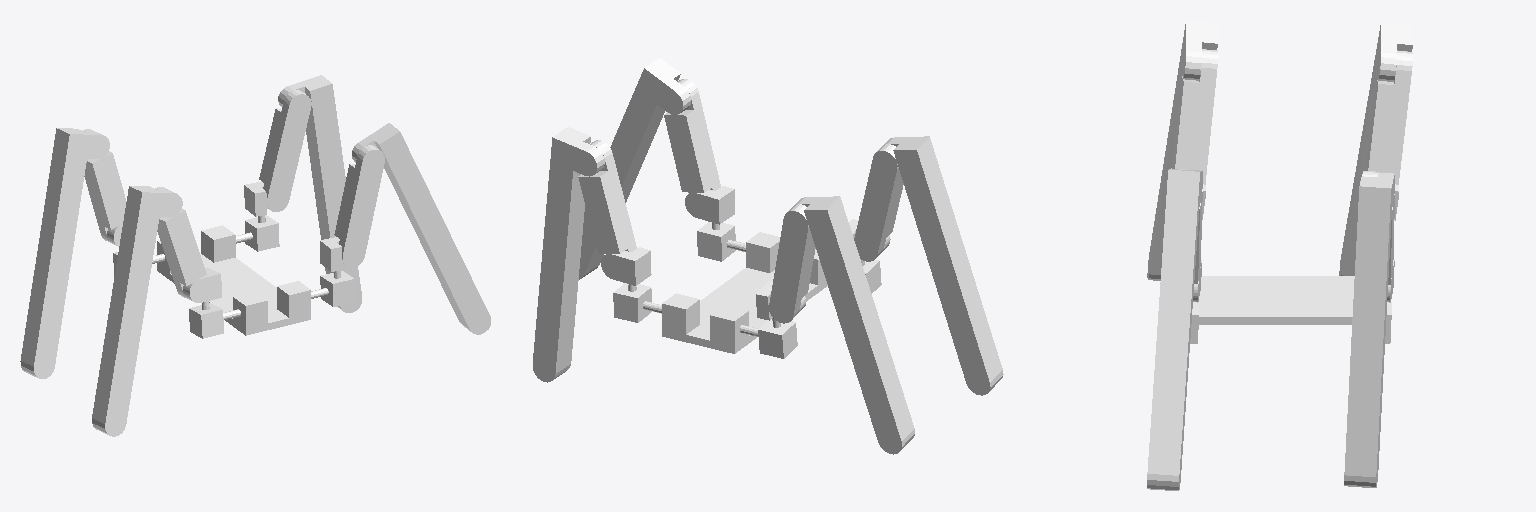
The robot description file, URDF, robot "FirstTry0314":
<?xml version="1.0" encoding="utf-8"?>
<!-- This URDF was automatically created by SolidWorks to URDF Exporter! Originally created by [author] ([email redacted]) 
     Commit Version: 1.5.1-0-g916b5db  Build Version: 1.5.7152.31018
     For more information, please see http://wiki.ros.org/sw_urdf_exporter -->
<robot
  name="FirstTry0314">
  <link
    name="base_link">
    <inertial>
      <origin
        xyz="-0.008197 -0.0073304 0.1"
        rpy="0 0 0" />
      <mass
        value="1.3313" />
      <inertia
        ixx="0.020645"
        ixy="-3.7461E-19"
        ixz="-2.6999E-20"
        iyy="0.023213"
        iyz="1.2187E-18"
        izz="0.0034844" />
    </inertial>
    <visual>
      <origin
        xyz="0 0 0"
        rpy="0 0 0" />
      <geometry>
        <mesh
          filename="package://FirstTry0314/meshes/base_link.STL" />
      </geometry>
      <material
        name="mat">
        <color
          rgba="1 1 1 1" />
      </material>
    </visual>
    <collision>
      <origin
        xyz="0 0 0"
        rpy="0 0 0" />
      <geometry>
        <mesh
          filename="package://FirstTry0314/meshes/base_link.STL" />
      </geometry>
    </collision>
  </link>
  <link
    name="Link-11">
    <inertial>
      <origin
        xyz="0.00052443 -0.048741 5.5511E-17"
        rpy="0 0 0" />
      <mass
        value="0.13426" />
      <inertia
        ixx="5.9611E-05"
        ixy="8.862E-08"
        ixz="-1.2705E-21"
        iyy="5.5476E-05"
        iyz="-8.8508E-22"
        izz="6.1772E-05" />
    </inertial>
    <visual>
      <origin
        xyz="0 0 0"
        rpy="0 0 0" />
      <geometry>
        <mesh
          filename="package://FirstTry0314/meshes/Link-11.STL" />
      </geometry>
      <material
        name="mat">
        <color
          rgba="1 1 1 1" />
      </material>
    </visual>
    <collision>
      <origin
        xyz="0 0 0"
        rpy="0 0 0" />
      <geometry>
        <mesh
          filename="package://FirstTry0314/meshes/Link-11.STL" />
      </geometry>
    </collision>
  </link>
  <joint
    name="Joint-11"
    type="continuous">
    <origin
      xyz="0.091803 -0.25 0.012279"
      rpy="0 -1.5303 1.5708" />
    <parent
      link="base_link" />
    <child
      link="Link-11" />
    <axis
      xyz="0 1 0" />
  </joint>
  <link
    name="Link-12">
    <inertial>
      <origin
        xyz="-0.0057876 -0.036825 0.0040114"
        rpy="0 0 0" />
      <mass
        value="0.12291" />
      <inertia
        ixx="7.6838E-05"
        ixy="-4.075E-07"
        ixz="1.327E-05"
        iyy="7.1867E-05"
        iyz="2.8244E-07"
        izz="4.7075E-05" />
    </inertial>
    <visual>
      <origin
        xyz="0 0 0"
        rpy="0 0 0" />
      <geometry>
        <mesh
          filename="package://FirstTry0314/meshes/Link-12.STL" />
      </geometry>
      <material
        name="mat">
        <color
          rgba="1 1 1 1" />
      </material>
    </visual>
    <collision>
      <origin
        xyz="0 0 0"
        rpy="0 0 0" />
      <geometry>
        <mesh
          filename="package://FirstTry0314/meshes/Link-12.STL" />
      </geometry>
    </collision>
  </link>
  <joint
    name="Joint-12"
    type="continuous">
    <origin
      xyz="0.037602 -0.05 0"
      rpy="0 -1.4921 1.5708" />
    <parent
      link="Link-11" />
    <child
      link="Link-12" />
    <axis
      xyz="0 1 0" />
  </joint>
  <link
    name="Link-13">
    <inertial>
      <origin
        xyz="8.3267E-17 0.1 0.0028666"
        rpy="0 0 0" />
      <mass
        value="0.49632" />
      <inertia
        ixx="0.0019227"
        ixy="-1.2535E-18"
        ixz="2.7105E-20"
        iyy="0.00020011"
        iyz="-5.7725E-19"
        izz="0.0019242" />
    </inertial>
    <visual>
      <origin
        xyz="0 0 0"
        rpy="0 0 0" />
      <geometry>
        <mesh
          filename="package://FirstTry0314/meshes/Link-13.STL" />
      </geometry>
      <material
        name="mat">
        <color
          rgba="1 1 1 1" />
      </material>
    </visual>
    <collision>
      <origin
        xyz="0 0 0"
        rpy="0 0 0" />
      <geometry>
        <mesh
          filename="package://FirstTry0314/meshes/Link-13.STL" />
      </geometry>
    </collision>
  </link>
  <joint
    name="Joint-13"
    type="continuous">
    <origin
      xyz="0 -0.037398 0.025"
      rpy="1.5708 -1.328 1.5708" />
    <parent
      link="Link-12" />
    <child
      link="Link-13" />
    <axis
      xyz="0 0 1" />
  </joint>
  <link
    name="Link-14">
    <inertial>
      <origin
        xyz="0.047942 0.21275 0.00053964"
        rpy="0 0 0" />
      <mass
        value="1.3182" />
      <inertia
        ixx="0.028713"
        ixy="-0.00057712"
        ixz="3.2444E-05"
        iyy="0.00066838"
        iyz="0.00015134"
        izz="0.028833" />
    </inertial>
    <visual>
      <origin
        xyz="0 0 0"
        rpy="0 0 0" />
      <geometry>
        <mesh
          filename="package://FirstTry0314/meshes/Link-14.STL" />
      </geometry>
      <material
        name="mat">
        <color
          rgba="1 1 1 1" />
      </material>
    </visual>
    <collision>
      <origin
        xyz="0 0 0"
        rpy="0 0 0" />
      <geometry>
        <mesh
          filename="package://FirstTry0314/meshes/Link-14.STL" />
      </geometry>
    </collision>
  </link>
  <joint
    name="Joint-14"
    type="continuous">
    <origin
      xyz="0 0.2 0"
      rpy="-3.1416 0 0.65082" />
    <parent
      link="Link-13" />
    <child
      link="Link-14" />
    <axis
      xyz="0 0 1" />
  </joint>
  <link
    name="Link-21">
    <inertial>
      <origin
        xyz="0.00052443 -0.048741 -5.5511E-17"
        rpy="0 0 0" />
      <mass
        value="0.13426" />
      <inertia
        ixx="5.9611E-05"
        ixy="8.862E-08"
        ixz="1.6941E-21"
        iyy="5.5476E-05"
        iyz="1.4029E-21"
        izz="6.1772E-05" />
    </inertial>
    <visual>
      <origin
        xyz="0 0 0"
        rpy="0 0 0" />
      <geometry>
        <mesh
          filename="package://FirstTry0314/meshes/Link-21.STL" />
      </geometry>
      <material
        name="mat">
        <color
          rgba="1 1 1 1" />
      </material>
    </visual>
    <collision>
      <origin
        xyz="0 0 0"
        rpy="0 0 0" />
      <geometry>
        <mesh
          filename="package://FirstTry0314/meshes/Link-21.STL" />
      </geometry>
    </collision>
  </link>
  <joint
    name="Joint-21"
    type="continuous">
    <origin
      xyz="-0.1082 -0.25 0.012279"
      rpy="3.1416 -1.4554 1.5708" />
    <parent
      link="base_link" />
    <child
      link="Link-21" />
    <axis
      xyz="0 1 0" />
  </joint>
  <link
    name="Link-22">
    <inertial>
      <origin
        xyz="-0.0057876 -0.036099 0.0040114"
        rpy="0 0 0" />
      <mass
        value="0.12291" />
      <inertia
        ixx="7.6838E-05"
        ixy="-4.075E-07"
        ixz="1.327E-05"
        iyy="7.1867E-05"
        iyz="2.8244E-07"
        izz="4.7075E-05" />
    </inertial>
    <visual>
      <origin
        xyz="0 0 0"
        rpy="0 0 0" />
      <geometry>
        <mesh
          filename="package://FirstTry0314/meshes/Link-22.STL" />
      </geometry>
      <material
        name="mat">
        <color
          rgba="1 1 1 1" />
      </material>
    </visual>
    <collision>
      <origin
        xyz="0 0 0"
        rpy="0 0 0" />
      <geometry>
        <mesh
          filename="package://FirstTry0314/meshes/Link-22.STL" />
      </geometry>
    </collision>
  </link>
  <joint
    name="Joint-22"
    type="continuous">
    <origin
      xyz="0.038328 -0.05 0"
      rpy="-3.1416 -1.5334 -1.5708" />
    <parent
      link="Link-21" />
    <child
      link="Link-22" />
    <axis
      xyz="0 1 0" />
  </joint>
  <link
    name="Link-23">
    <inertial>
      <origin
        xyz="-8.3267E-17 0.1 0.0028666"
        rpy="0 0 0" />
      <mass
        value="0.49632" />
      <inertia
        ixx="0.0019227"
        ixy="1.527E-18"
        ixz="-2.7105E-20"
        iyy="0.00020011"
        iyz="1.6348E-18"
        izz="0.0019242" />
    </inertial>
    <visual>
      <origin
        xyz="0 0 0"
        rpy="0 0 0" />
      <geometry>
        <mesh
          filename="package://FirstTry0314/meshes/Link-23.STL" />
      </geometry>
      <material
        name="mat">
        <color
          rgba="1 1 1 1" />
      </material>
    </visual>
    <collision>
      <origin
        xyz="0 0 0"
        rpy="0 0 0" />
      <geometry>
        <mesh
          filename="package://FirstTry0314/meshes/Link-23.STL" />
      </geometry>
    </collision>
  </link>
  <joint
    name="Joint-23"
    type="continuous">
    <origin
      xyz="0 -0.036672 0.025"
      rpy="1.5708 -1.3017 1.5708" />
    <parent
      link="Link-22" />
    <child
      link="Link-23" />
    <axis
      xyz="0 0 1" />
  </joint>
  <link
    name="Link-24">
    <inertial>
      <origin
        xyz="0.047942 0.21275 0.00053964"
        rpy="0 0 0" />
      <mass
        value="1.3182" />
      <inertia
        ixx="0.028713"
        ixy="-0.00057712"
        ixz="3.2444E-05"
        iyy="0.00066838"
        iyz="0.00015134"
        izz="0.028833" />
    </inertial>
    <visual>
      <origin
        xyz="0 0 0"
        rpy="0 0 0" />
      <geometry>
        <mesh
          filename="package://FirstTry0314/meshes/Link-24.STL" />
      </geometry>
      <material
        name="mat">
        <color
          rgba="1 1 1 1" />
      </material>
    </visual>
    <collision>
      <origin
        xyz="0 0 0"
        rpy="0 0 0" />
      <geometry>
        <mesh
          filename="package://FirstTry0314/meshes/Link-24.STL" />
      </geometry>
    </collision>
  </link>
  <joint
    name="Joint-24"
    type="continuous">
    <origin
      xyz="0 0.2 0"
      rpy="3.1416 0 0.52071" />
    <parent
      link="Link-23" />
    <child
      link="Link-24" />
    <axis
      xyz="0 0 1" />
  </joint>
  <link
    name="Link-31">
    <inertial>
      <origin
        xyz="0.00052443 -0.048741 -1.3878E-17"
        rpy="0 0 0" />
      <mass
        value="0.13426" />
      <inertia
        ixx="5.9611E-05"
        ixy="8.862E-08"
        ixz="-5.294E-21"
        iyy="5.5476E-05"
        iyz="2.3868E-21"
        izz="6.1772E-05" />
    </inertial>
    <visual>
      <origin
        xyz="0 0 0"
        rpy="0 0 0" />
      <geometry>
        <mesh
          filename="package://FirstTry0314/meshes/Link-31.STL" />
      </geometry>
      <material
        name="mat">
        <color
          rgba="1 1 1 1" />
      </material>
    </visual>
    <collision>
      <origin
        xyz="0 0 0"
        rpy="0 0 0" />
      <geometry>
        <mesh
          filename="package://FirstTry0314/meshes/Link-31.STL" />
      </geometry>
    </collision>
  </link>
  <joint
    name="Joint-31"
    type="continuous">
    <origin
      xyz="0.091803 0.05 0.012279"
      rpy="0 -1.5303 1.5708" />
    <parent
      link="base_link" />
    <child
      link="Link-31" />
    <axis
      xyz="0 1 0" />
  </joint>
  <link
    name="Link-32">
    <inertial>
      <origin
        xyz="-0.0057876 -0.036825 0.0040114"
        rpy="0 0 0" />
      <mass
        value="0.12291" />
      <inertia
        ixx="7.6838E-05"
        ixy="-4.075E-07"
        ixz="1.327E-05"
        iyy="7.1867E-05"
        iyz="2.8244E-07"
        izz="4.7075E-05" />
    </inertial>
    <visual>
      <origin
        xyz="0 0 0"
        rpy="0 0 0" />
      <geometry>
        <mesh
          filename="package://FirstTry0314/meshes/Link-32.STL" />
      </geometry>
      <material
        name="mat">
        <color
          rgba="1 1 1 1" />
      </material>
    </visual>
    <collision>
      <origin
        xyz="0 0 0"
        rpy="0 0 0" />
      <geometry>
        <mesh
          filename="package://FirstTry0314/meshes/Link-32.STL" />
      </geometry>
    </collision>
  </link>
  <joint
    name="Joint-32"
    type="continuous">
    <origin
      xyz="0.037602 -0.05 0"
      rpy="0 -1.4921 1.5708" />
    <parent
      link="Link-31" />
    <child
      link="Link-32" />
    <axis
      xyz="0 1 0" />
  </joint>
  <link
    name="Link-33">
    <inertial>
      <origin
        xyz="8.3267E-17 0.1 0.0028666"
        rpy="0 0 0" />
      <mass
        value="0.49632" />
      <inertia
        ixx="0.0019227"
        ixy="-1.9327E-18"
        ixz="5.421E-20"
        iyy="0.00020011"
        iyz="-2.8376E-19"
        izz="0.0019242" />
    </inertial>
    <visual>
      <origin
        xyz="0 0 0"
        rpy="0 0 0" />
      <geometry>
        <mesh
          filename="package://FirstTry0314/meshes/Link-33.STL" />
      </geometry>
      <material
        name="mat">
        <color
          rgba="1 1 1 1" />
      </material>
    </visual>
    <collision>
      <origin
        xyz="0 0 0"
        rpy="0 0 0" />
      <geometry>
        <mesh
          filename="package://FirstTry0314/meshes/Link-33.STL" />
      </geometry>
    </collision>
  </link>
  <joint
    name="Joint-33"
    type="continuous">
    <origin
      xyz="0 -0.037398 0.025"
      rpy="1.5708 -1.3019 1.5708" />
    <parent
      link="Link-32" />
    <child
      link="Link-33" />
    <axis
      xyz="0 0 1" />
  </joint>
  <link
    name="Link-34">
    <inertial>
      <origin
        xyz="0.047942 0.21275 0.00053964"
        rpy="0 0 0" />
      <mass
        value="1.3182" />
      <inertia
        ixx="0.028713"
        ixy="-0.00057712"
        ixz="3.2444E-05"
        iyy="0.00066838"
        iyz="0.00015134"
        izz="0.028833" />
    </inertial>
    <visual>
      <origin
        xyz="0 0 0"
        rpy="0 0 0" />
      <geometry>
        <mesh
          filename="package://FirstTry0314/meshes/Link-34.STL" />
      </geometry>
      <material
        name="mat">
        <color
          rgba="1 1 1 1" />
      </material>
    </visual>
    <collision>
      <origin
        xyz="0 0 0"
        rpy="0 0 0" />
      <geometry>
        <mesh
          filename="package://FirstTry0314/meshes/Link-34.STL" />
      </geometry>
    </collision>
  </link>
  <joint
    name="Joint-34"
    type="continuous">
    <origin
      xyz="0 0.2 0"
      rpy="-3.1416 0 0.38436" />
    <parent
      link="Link-33" />
    <child
      link="Link-34" />
    <axis
      xyz="0 0 1" />
  </joint>
  <link
    name="Link-41">
    <inertial>
      <origin
        xyz="0.00052443 -0.048741 6.9389E-18"
        rpy="0 0 0" />
      <mass
        value="0.13426" />
      <inertia
        ixx="5.9611E-05"
        ixy="8.862E-08"
        ixz="0"
        iyy="5.5476E-05"
        iyz="1.4261E-21"
        izz="6.1772E-05" />
    </inertial>
    <visual>
      <origin
        xyz="0 0 0"
        rpy="0 0 0" />
      <geometry>
        <mesh
          filename="package://FirstTry0314/meshes/Link-41.STL" />
      </geometry>
      <material
        name="mat">
        <color
          rgba="1 1 1 1" />
      </material>
    </visual>
    <collision>
      <origin
        xyz="0 0 0"
        rpy="0 0 0" />
      <geometry>
        <mesh
          filename="package://FirstTry0314/meshes/Link-41.STL" />
      </geometry>
    </collision>
  </link>
  <joint
    name="Joint-41"
    type="continuous">
    <origin
      xyz="-0.1082 0.05 0.012279"
      rpy="3.1416 -1.4451 1.5708" />
    <parent
      link="base_link" />
    <child
      link="Link-41" />
    <axis
      xyz="0 1 0" />
  </joint>
  <link
    name="Link-42">
    <inertial>
      <origin
        xyz="-0.0057876 -0.035945 0.0040114"
        rpy="0 0 0" />
      <mass
        value="0.12291" />
      <inertia
        ixx="7.6838E-05"
        ixy="-4.075E-07"
        ixz="1.327E-05"
        iyy="7.1867E-05"
        iyz="2.8244E-07"
        izz="4.7075E-05" />
    </inertial>
    <visual>
      <origin
        xyz="0 0 0"
        rpy="0 0 0" />
      <geometry>
        <mesh
          filename="package://FirstTry0314/meshes/Link-42.STL" />
      </geometry>
      <material
        name="mat">
        <color
          rgba="1 1 1 1" />
      </material>
    </visual>
    <collision>
      <origin
        xyz="0 0 0"
        rpy="0 0 0" />
      <geometry>
        <mesh
          filename="package://FirstTry0314/meshes/Link-42.STL" />
      </geometry>
    </collision>
  </link>
  <joint
    name="Joint-42"
    type="continuous">
    <origin
      xyz="0.038483 -0.05 0"
      rpy="3.1416 -1.5334 -1.5708" />
    <parent
      link="Link-41" />
    <child
      link="Link-42" />
    <axis
      xyz="0 1 0" />
  </joint>
  <link
    name="Link-43">
    <inertial>
      <origin
        xyz="-5.5511E-17 0.1 0.0028666"
        rpy="0 0 0" />
      <mass
        value="0.49632" />
      <inertia
        ixx="0.0019227"
        ixy="1.3239E-18"
        ixz="2.7105E-20"
        iyy="0.00020011"
        iyz="-4.3707E-19"
        izz="0.0019242" />
    </inertial>
    <visual>
      <origin
        xyz="0 0 0"
        rpy="0 0 0" />
      <geometry>
        <mesh
          filename="package://FirstTry0314/meshes/Link-43.STL" />
      </geometry>
      <material
        name="mat">
        <color
          rgba="1 1 1 1" />
      </material>
    </visual>
    <collision>
      <origin
        xyz="0 0 0"
        rpy="0 0 0" />
      <geometry>
        <mesh
          filename="package://FirstTry0314/meshes/Link-43.STL" />
      </geometry>
    </collision>
  </link>
  <joint
    name="Joint-43"
    type="continuous">
    <origin
      xyz="0 -0.036517 0.025"
      rpy="1.5708 -1.3498 1.5708" />
    <parent
      link="Link-42" />
    <child
      link="Link-43" />
    <axis
      xyz="0 0 1" />
  </joint>
  <link
    name="Link-44">
    <inertial>
      <origin
        xyz="0.047942 0.21275 0.00053964"
        rpy="0 0 0" />
      <mass
        value="1.3182" />
      <inertia
        ixx="0.028713"
        ixy="-0.00057712"
        ixz="3.2444E-05"
        iyy="0.00066838"
        iyz="0.00015134"
        izz="0.028833" />
    </inertial>
    <visual>
      <origin
        xyz="0 0 0"
        rpy="0 0 0" />
      <geometry>
        <mesh
          filename="package://FirstTry0314/meshes/Link-44.STL" />
      </geometry>
      <material
        name="mat">
        <color
          rgba="1 1 1 1" />
      </material>
    </visual>
    <collision>
      <origin
        xyz="0 0 0"
        rpy="0 0 0" />
      <geometry>
        <mesh
          filename="package://FirstTry0314/meshes/Link-44.STL" />
      </geometry>
    </collision>
  </link>
  <joint
    name="Joint-44"
    type="continuous">
    <origin
      xyz="0 0.2 0"
      rpy="-3.1416 0 0.47223" />
    <parent
      link="Link-43" />
    <child
      link="Link-44" />
    <axis
      xyz="0 0 1" />
  </joint>
</robot>

--- Facts derived from the render (not from the file) ---
Views: 3 orthographic renders of the robot side by side, from view 1: azimuth 30°, elevation 25°; view 2: azimuth 150°, elevation 25°; view 3: azimuth 270°, elevation 25°.
Robot: FirstTry0314 — 17 links, 16 joints (16 continuous); root link base_link; default pose: all joints at 0.
Visible links, largest first — view 1: Link-44, Link-24, Link-14, base_link, Link-34, Link-33, Link-13, Link-23, Link-43, Link-21, Link-11, Link-31 (+3 smaller); view 2: Link-24, Link-44, Link-34, base_link, Link-14, Link-43, Link-33, Link-13, Link-23, Link-32, Link-12, Link-31 (+3 smaller); view 3: Link-14, Link-34, base_link, Link-43, Link-23, Link-44, Link-24.
Link boxes in pixels (x1=…): Link-44: x1=20, y1=128, x2=109, y2=378; Link-24: x1=92, y1=186, x2=182, y2=436; Link-14: x1=352, y1=123, x2=490, y2=334; base_link: x1=153, y1=225, x2=317, y2=335; Link-34: x1=278, y1=75, x2=361, y2=312; Link-33: x1=259, y1=90, x2=311, y2=211; Link-13: x1=334, y1=145, x2=384, y2=267; Link-23: x1=155, y1=187, x2=206, y2=297; Link-43: x1=83, y1=129, x2=126, y2=241; Link-21: x1=189, y1=303, x2=229, y2=338; Link-11: x1=315, y1=271, x2=354, y2=306; Link-31: x1=240, y1=215, x2=279, y2=251; Link-24: x1=884, y1=136, x2=1003, y2=395; Link-44: x1=795, y1=196, x2=914, y2=454; Link-34: x1=533, y1=127, x2=604, y2=382; base_link: x1=655, y1=232, x2=827, y2=353; Link-14: x1=579, y1=58, x2=690, y2=279; Link-43: x1=769, y1=204, x2=815, y2=323; Link-33: x1=578, y1=140, x2=636, y2=253; Link-13: x1=664, y1=79, x2=720, y2=192; Link-23: x1=854, y1=144, x2=903, y2=261; Link-32: x1=601, y1=247, x2=651, y2=285; Link-12: x1=685, y1=186, x2=734, y2=224; Link-31: x1=613, y1=283, x2=656, y2=322; Link-14: x1=1147, y1=169, x2=1202, y2=490; Link-34: x1=1344, y1=172, x2=1394, y2=487; base_link: x1=1198, y1=276, x2=1354, y2=324; Link-43: x1=1365, y1=50, x2=1412, y2=184; Link-23: x1=1172, y1=49, x2=1217, y2=184; Link-44: x1=1339, y1=22, x2=1412, y2=275; Link-24: x1=1147, y1=21, x2=1217, y2=280.
Size in the robot's own frame: 0.8876 by 0.4148 by 0.5215 metres.
Meshes: 17 distinct files referenced, 17 mesh visuals loaded (17 binary STL).